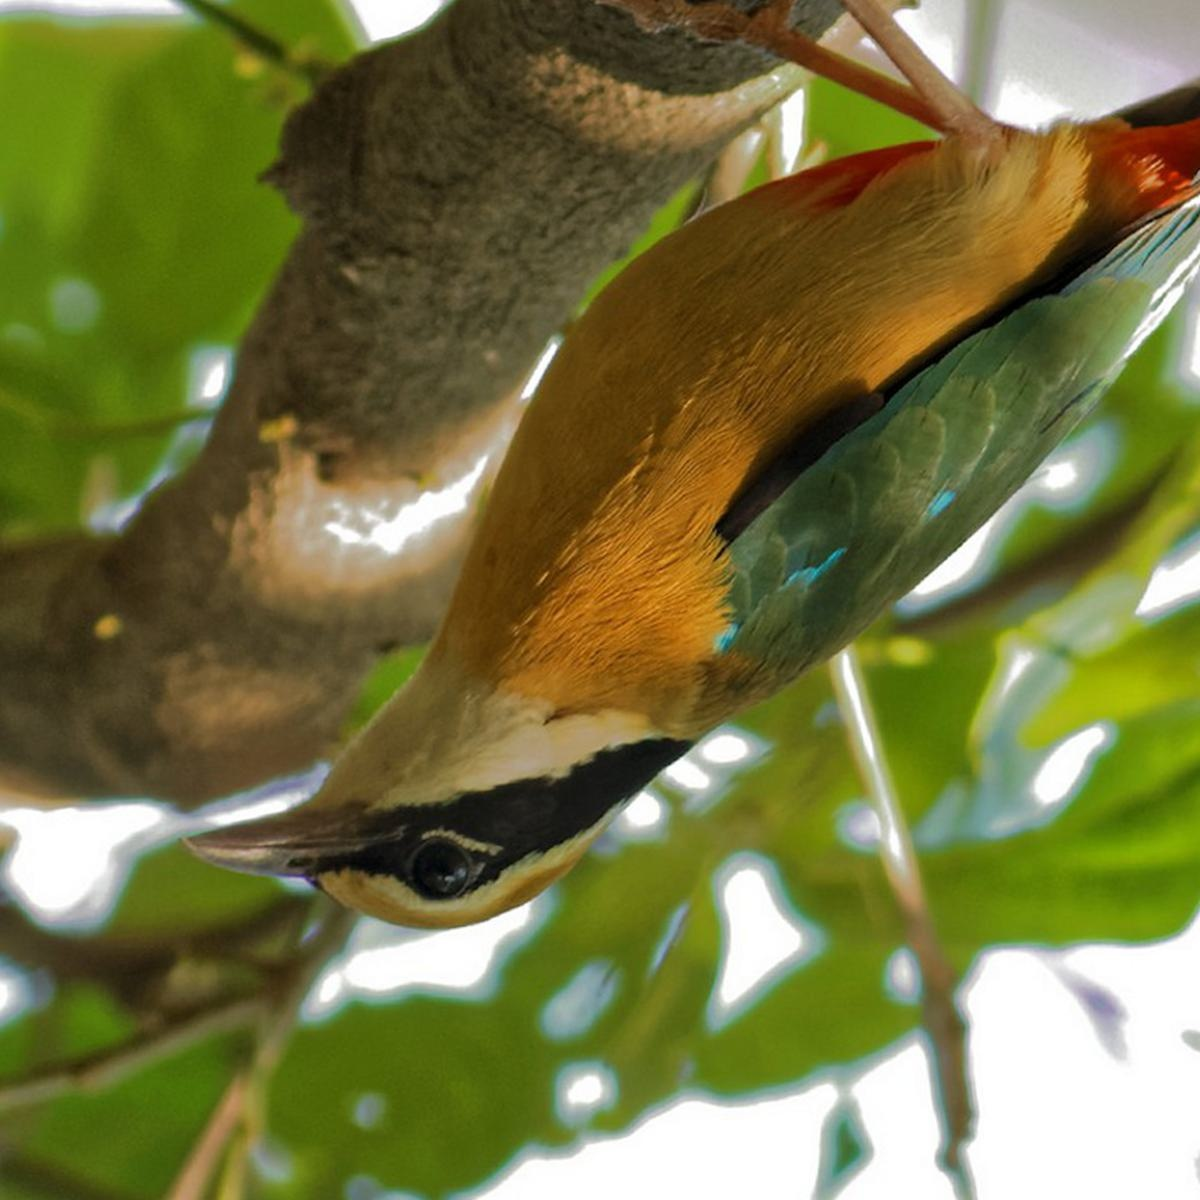pitta: (196, 1, 1200, 975)
